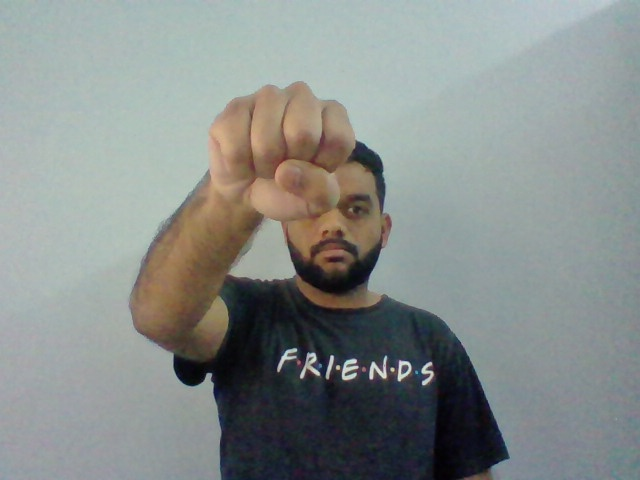Yes: (203, 73, 357, 220)
